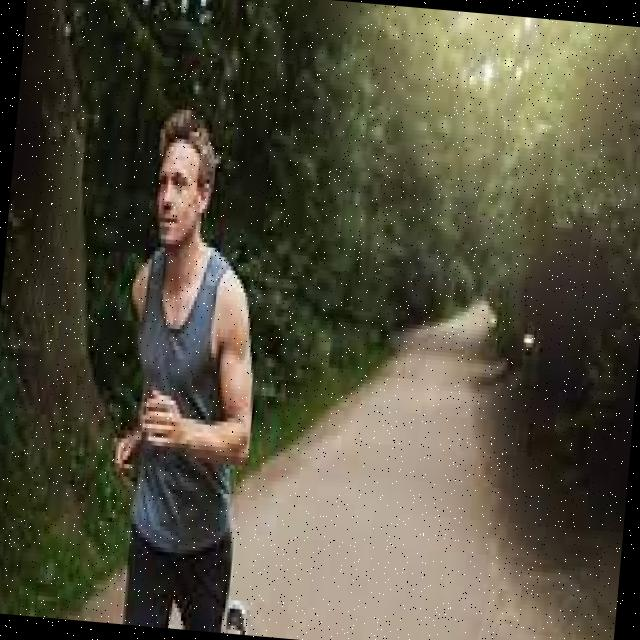Person: (100, 106, 296, 635)
